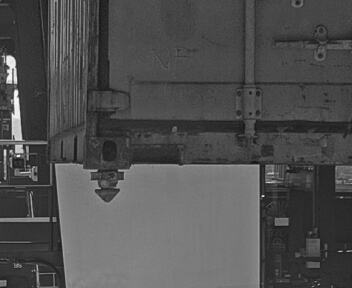twist_lock_2: (84, 169, 131, 212)
